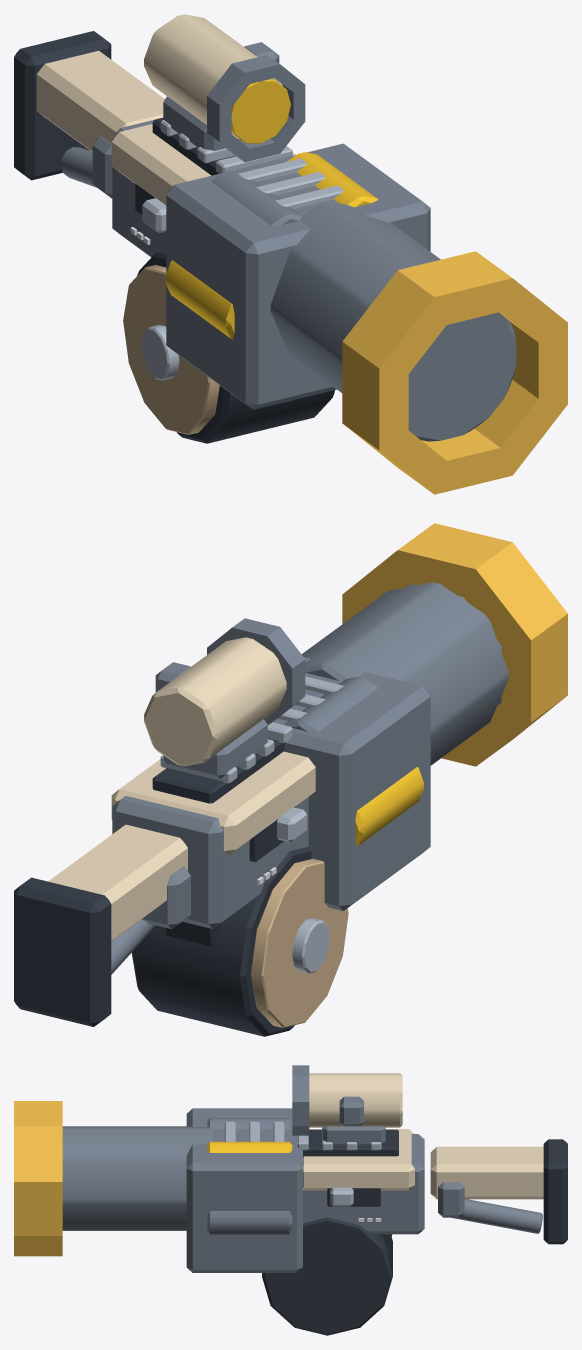
The model's file is Military_GL_v001.fbx.
3 renders of one model, top to bottom at view 1: azimuth 30°, elevation 25°; view 2: azimuth 150°, elevation 25°; view 3: azimuth 270°, elevation 25°, orthographic. The views are drawn at different scales.
Parts seen in each view (by area): view 1: Military_GL__RECEIVER_MESH, Military_GL__MAGAZINE_MESH; view 2: Military_GL__RECEIVER_MESH, Military_GL__MAGAZINE_MESH; view 3: Military_GL__RECEIVER_MESH, Military_GL__MAGAZINE_MESH.
Boxes of the visible parts, x1=… form: Military_GL__RECEIVER_MESH: x1=14, y1=14, x2=567, y2=494; Military_GL__MAGAZINE_MESH: x1=123, y1=252, x2=334, y2=443; Military_GL__RECEIVER_MESH: x1=14, y1=523, x2=567, y2=1026; Military_GL__MAGAZINE_MESH: x1=131, y1=846, x2=348, y2=1036; Military_GL__RECEIVER_MESH: x1=14, y1=1065, x2=567, y2=1272; Military_GL__MAGAZINE_MESH: x1=262, y1=1217, x2=392, y2=1335.
Bounding box in the file's own units: 0.6208 × 1.12 × 2.28.
